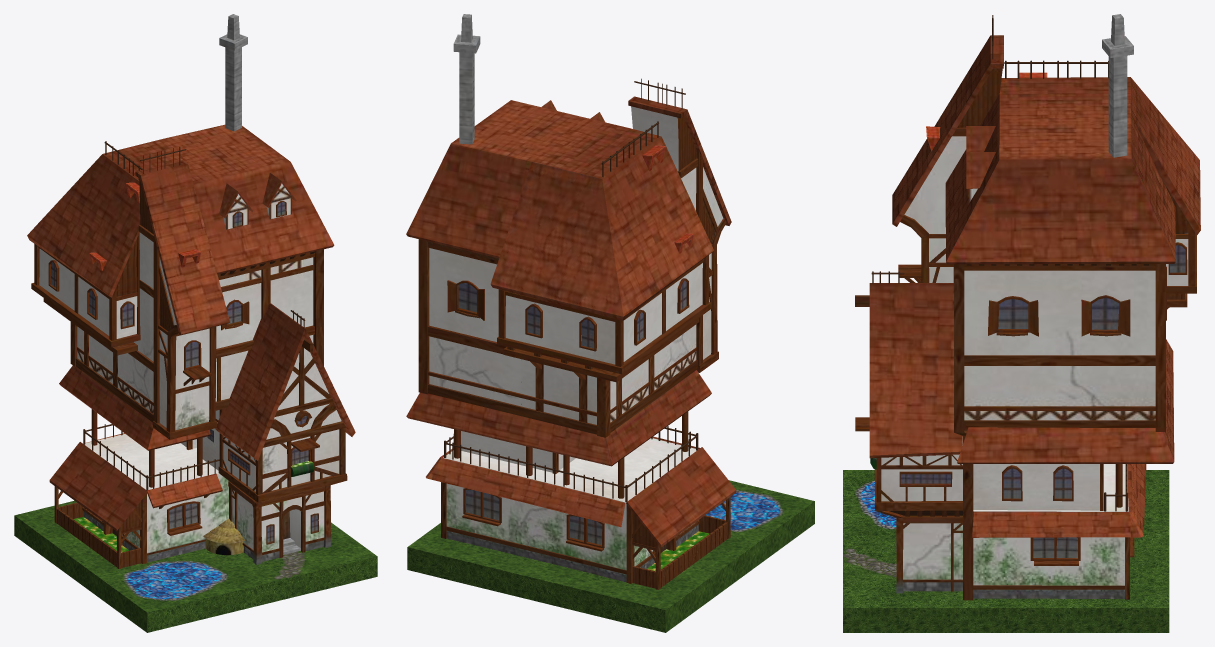
The model's file is ountryside_house.glb.
The picture shows the model from 3 angles, left to right: view 1: azimuth 30°, elevation 25°; view 2: azimuth 150°, elevation 25°; view 3: azimuth 270°, elevation 25°; orthographic projection. The views are drawn at different scales.
Parts seen in each view (by area): view 1: Object_4, Object_3, Object_2; view 2: Object_4, Object_3, Object_2; view 3: Object_4, Object_3, Object_2.
Part boxes in pixels (bbox=[...]): Object_4: bbox=[27, 14, 355, 568]; Object_3: bbox=[51, 124, 339, 564]; Object_2: bbox=[14, 500, 377, 632]; Object_4: bbox=[406, 14, 736, 589]; Object_3: bbox=[429, 78, 726, 582]; Object_2: bbox=[407, 480, 814, 632]; Object_4: bbox=[855, 14, 1200, 600]; Object_3: bbox=[870, 15, 1185, 598]; Object_2: bbox=[843, 470, 1169, 632].
Bounding box in the file's own units: 0.998 × 2 × 1.09.
Materials: 2 (2 with a texture image).
